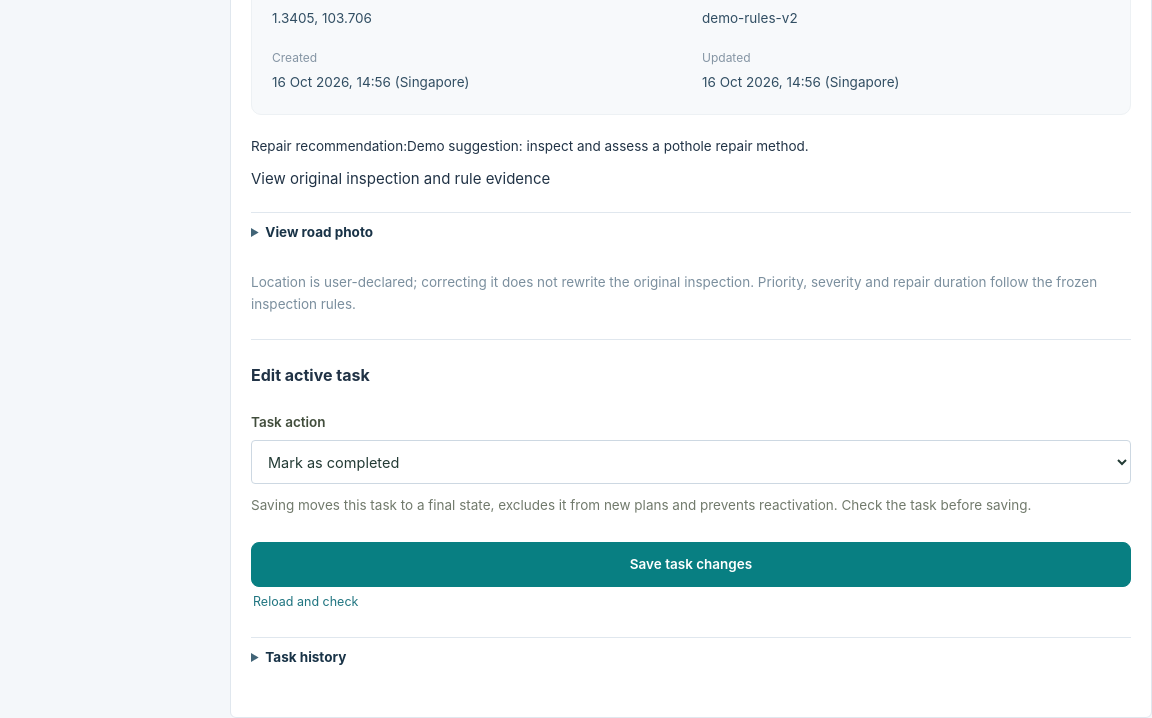
Test: reloads after conflict without replaying old intent
(page scrolled)
Click the button "Save task changes".
click(691, 564)  # box [251, 542, 1131, 587]
(page scrolled)
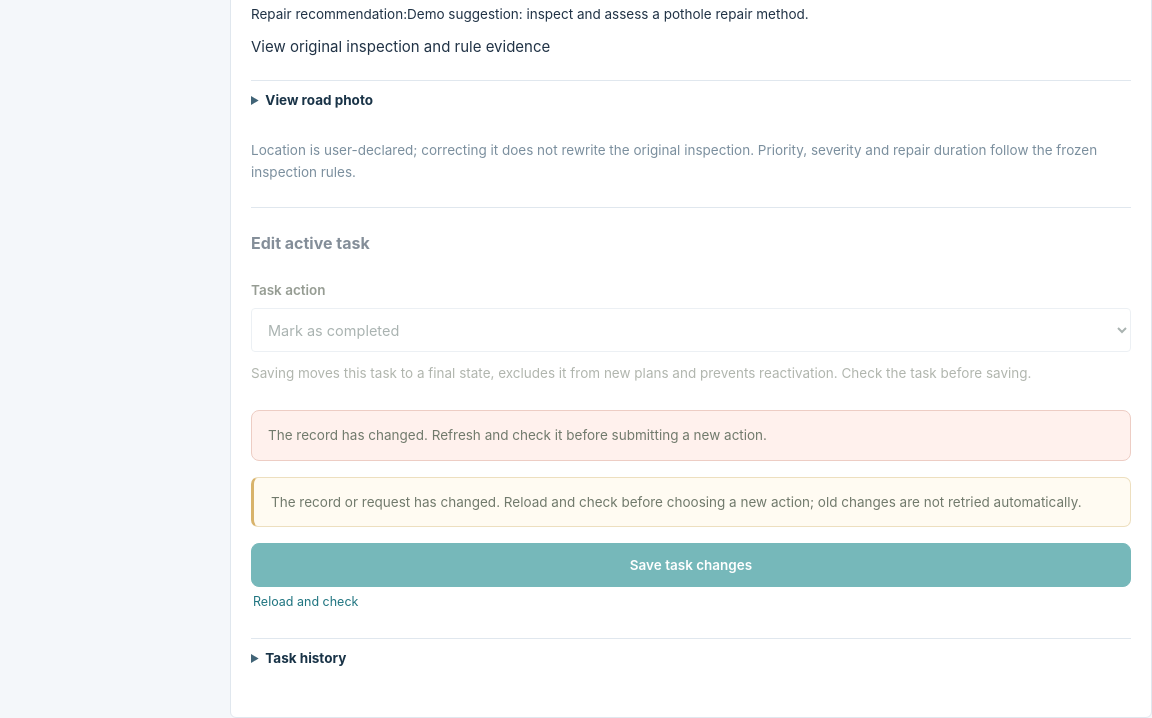
Expected: the message shows "The record has changed", [268, 427, 767, 443]
Expected: the button "Save task changes" is disabled, [251, 543, 1131, 587]
Click the button "Reload and check".
click(306, 602)  # box [251, 587, 360, 618]
(page scrolled)
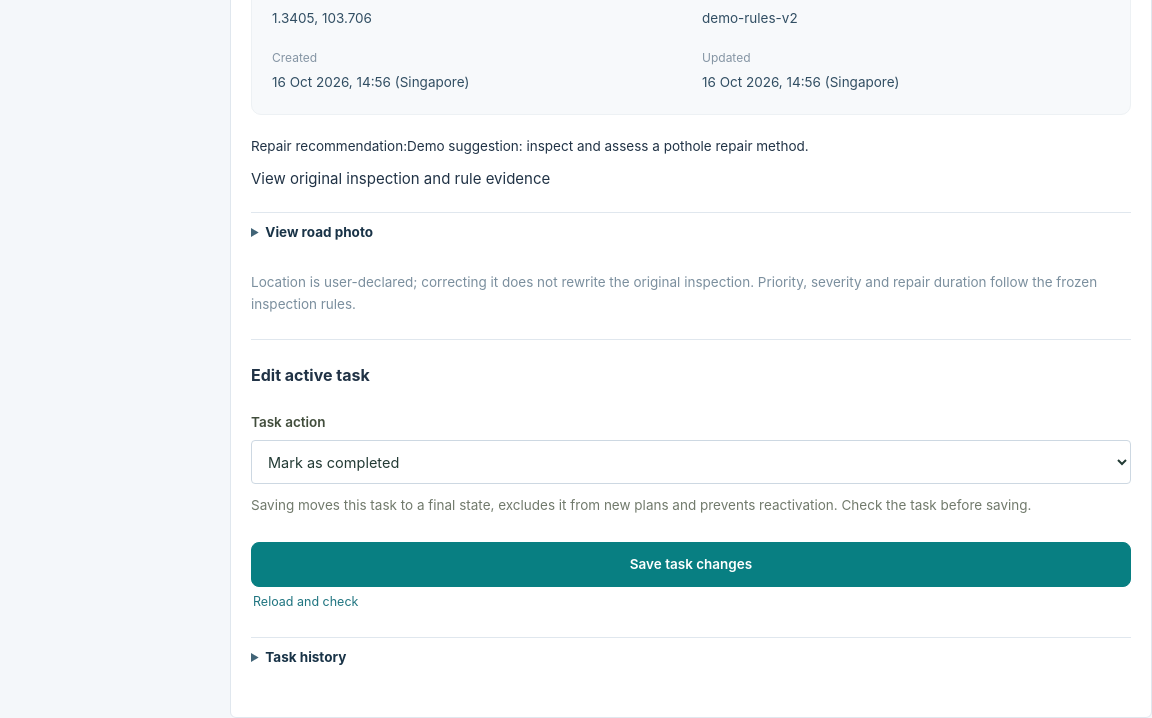
Click the button "Save task changes".
click(691, 564)  # box [251, 542, 1131, 587]
(page scrolled)
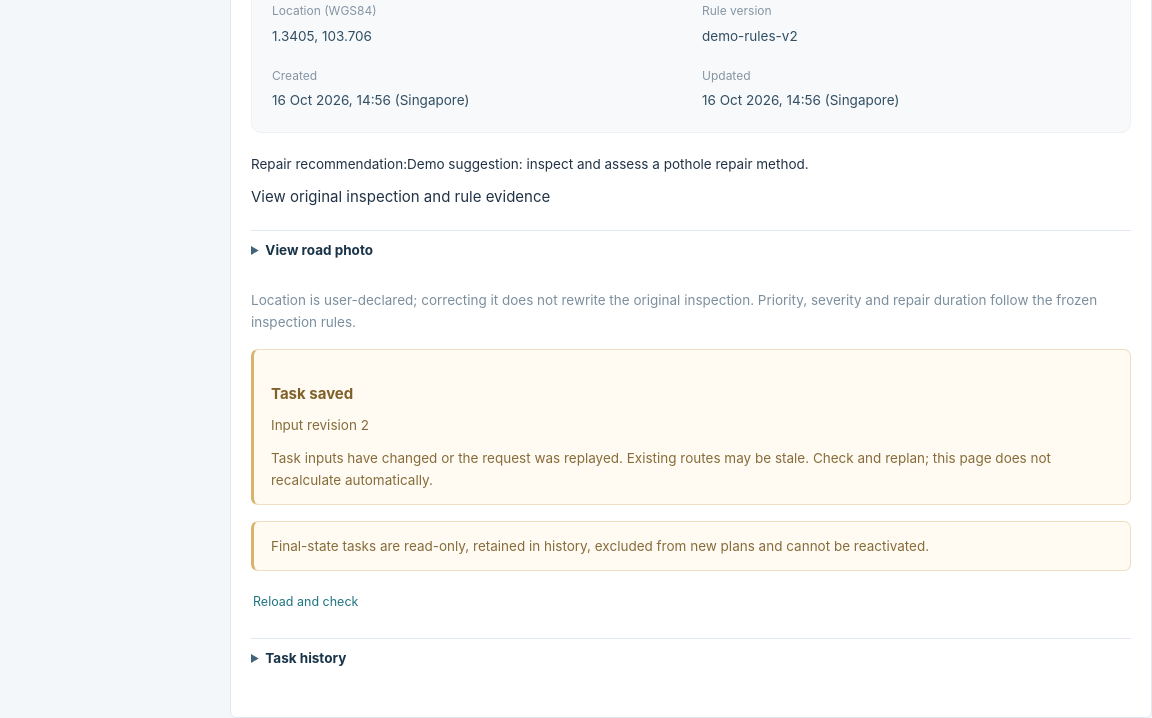
Expected: the heading "Task saved" is shown, [271, 384, 353, 403]
